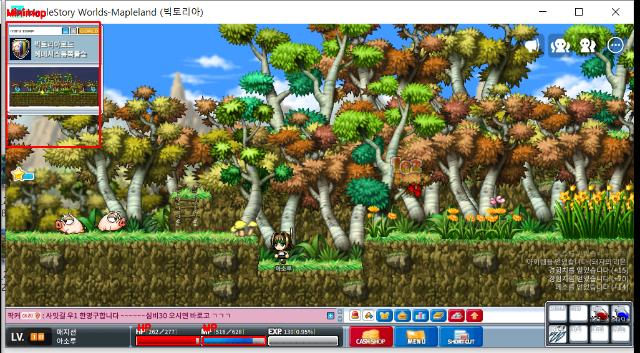me: (268, 224, 294, 272)
pig: (54, 212, 86, 234), (97, 210, 125, 232)
